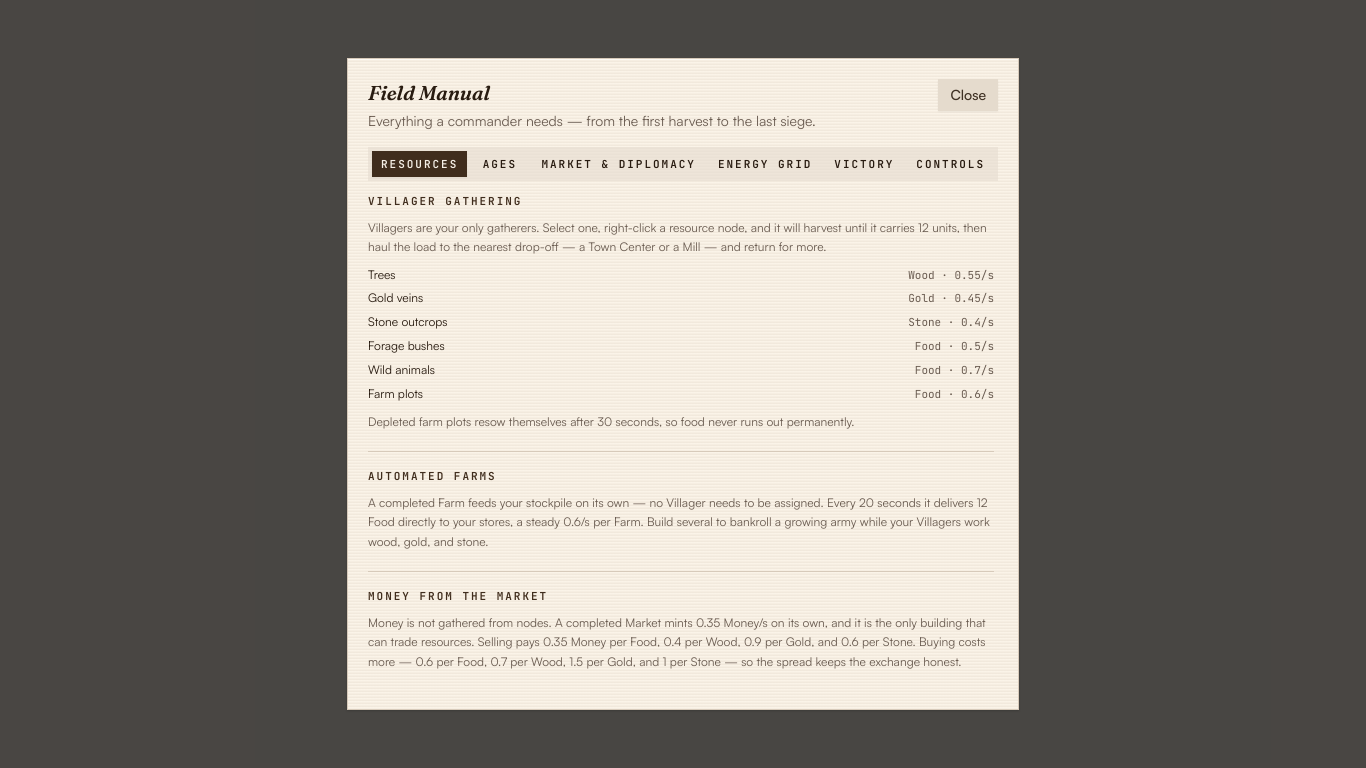
Test: HelpOverlay cover: expanded manual › renders each guide tab's content when selected
This screenshot has width=1366, height=768.
Click the tab "Ages" at (500, 164), box [471, 151, 528, 177]
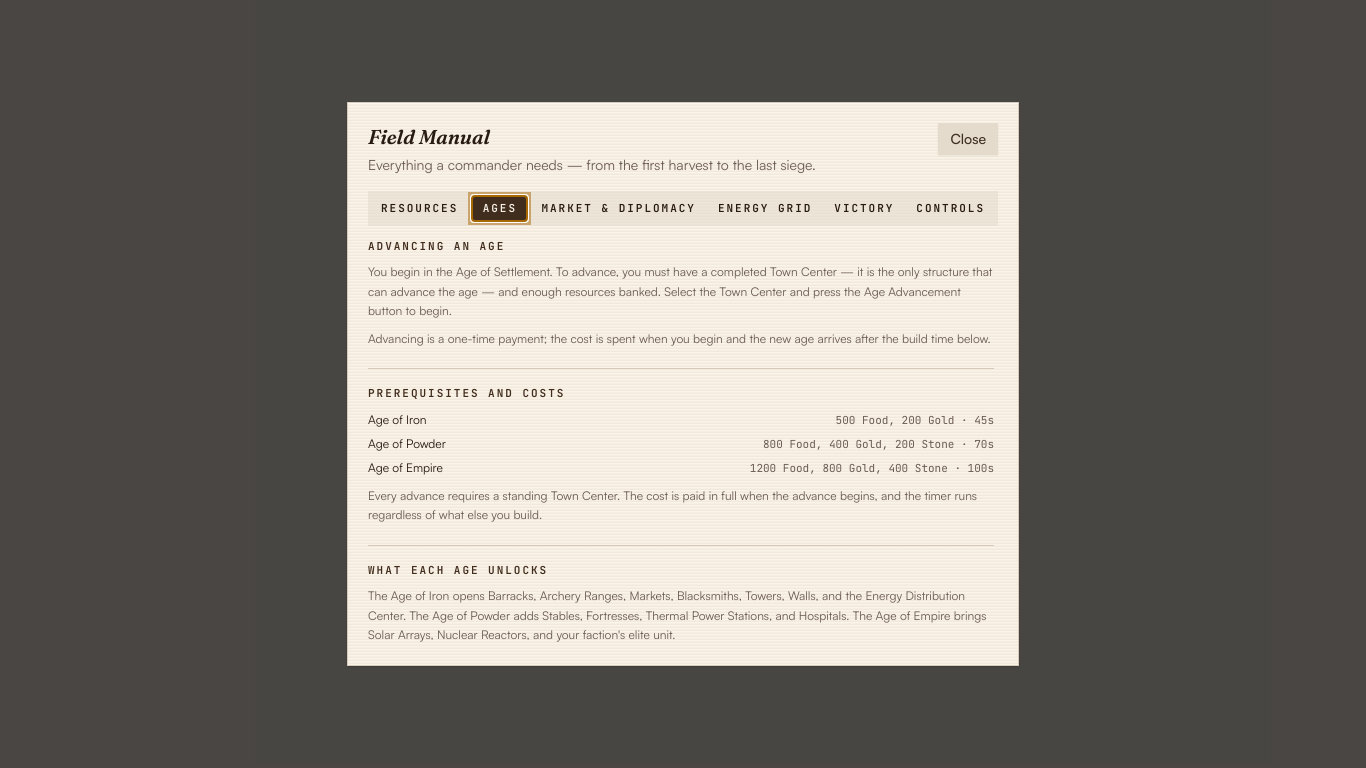
Now the heading "Advancing an Age" is shown, box [368, 239, 505, 253]
Click the tab "Market & Diplomacy" at (619, 209), box [532, 195, 705, 222]
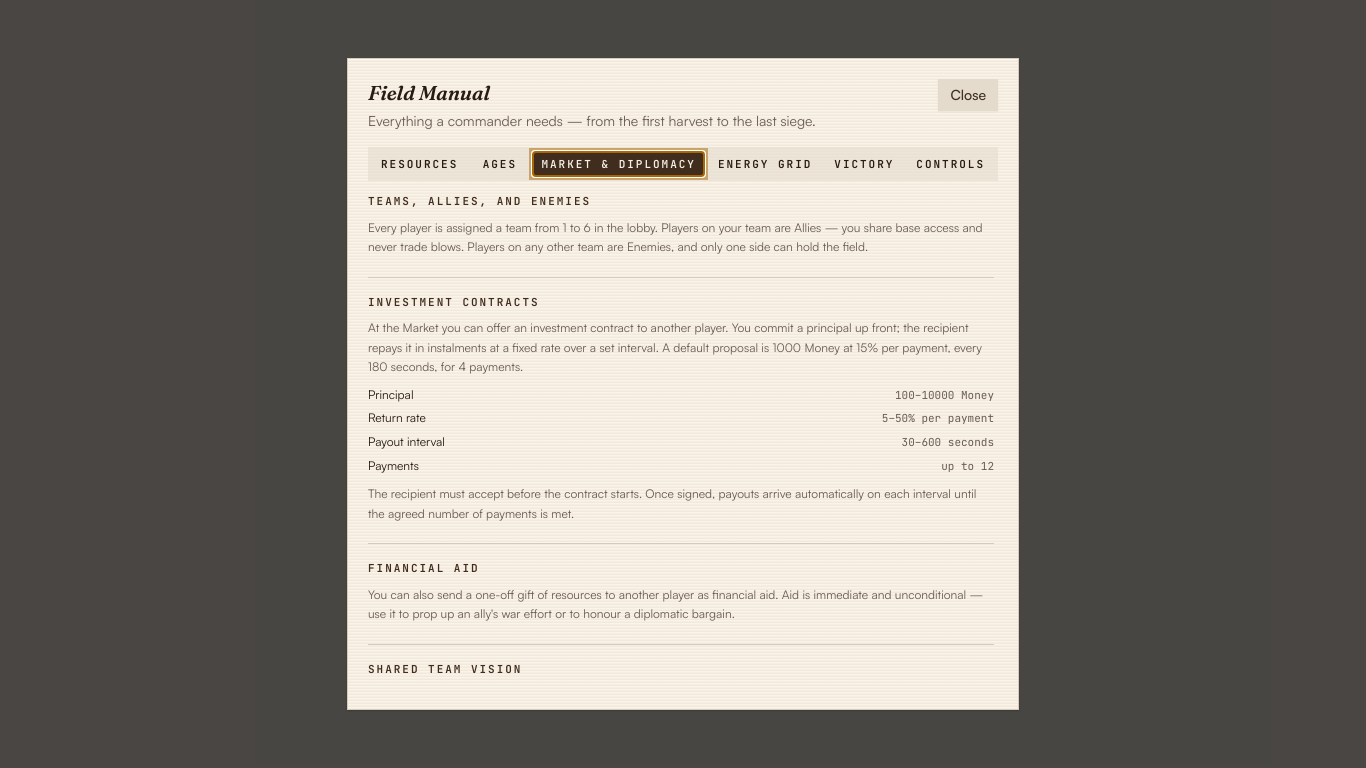
Now the heading "Investment Contracts" is shown, box [368, 295, 540, 309]
Click the tab "Energy Grid" at (765, 164), box [709, 151, 821, 177]
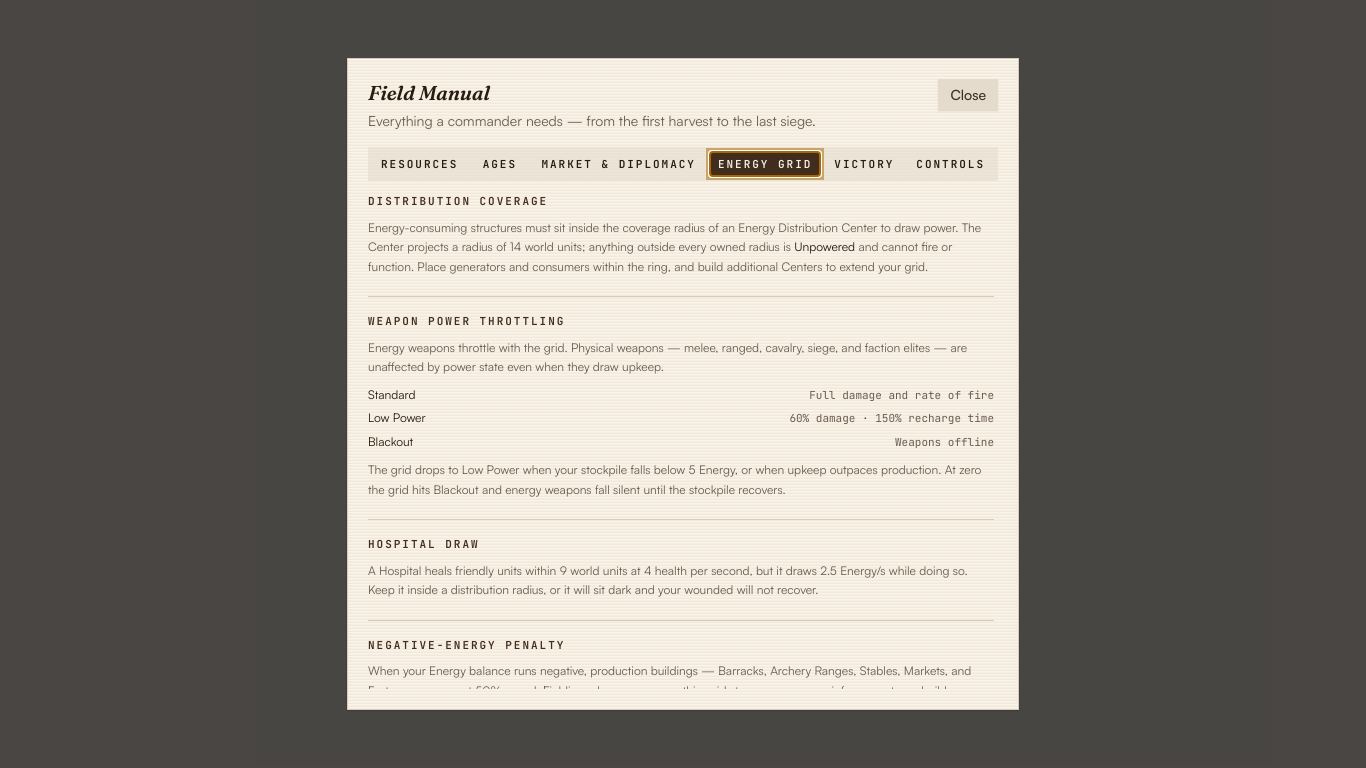
Now the heading "Distribution Coverage" is shown, box [368, 194, 548, 208]
Click the tab "Victory" at (864, 164), box [825, 151, 903, 177]
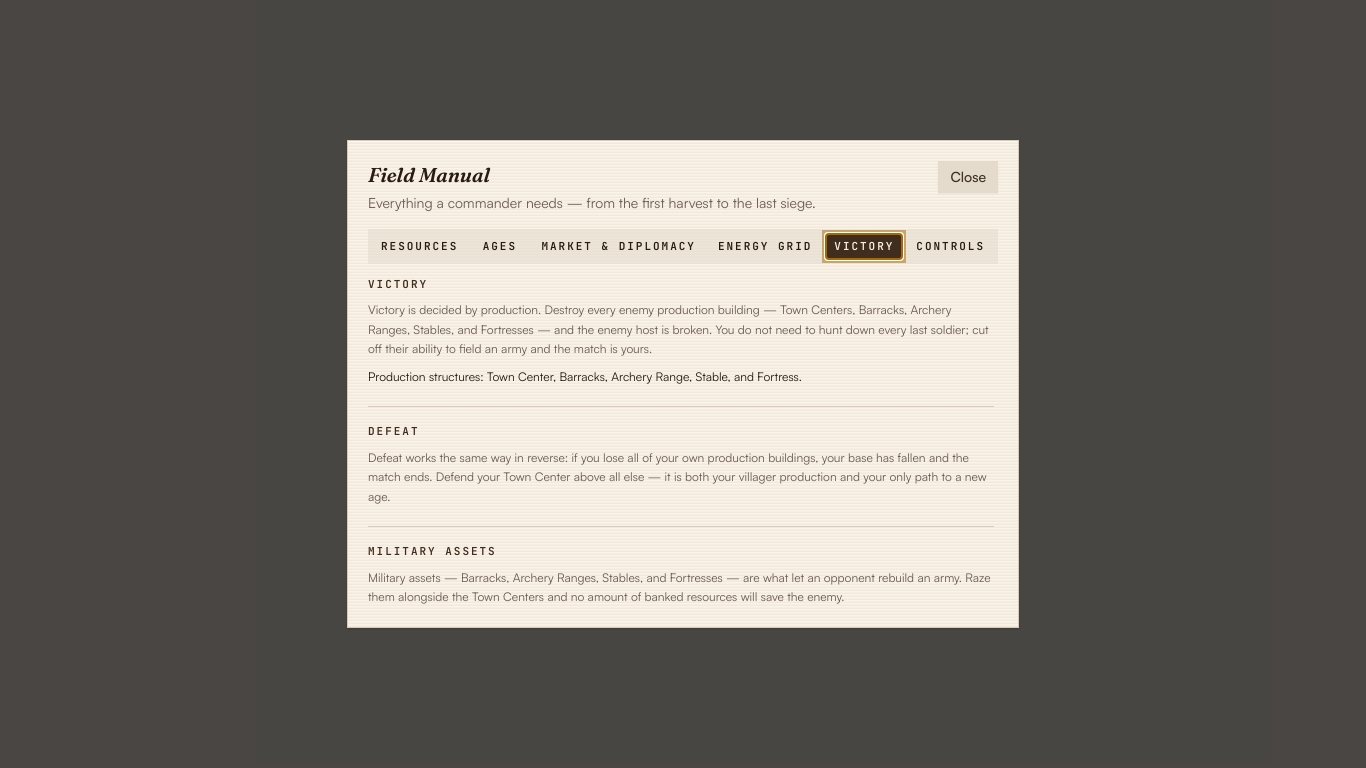
Now the heading "Victory" is shown, box [368, 277, 428, 291]
Now the heading "Defeat" is shown, box [368, 424, 420, 438]
